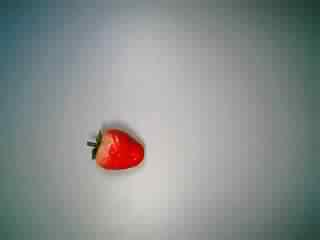strawberry: (81, 119, 147, 181)
